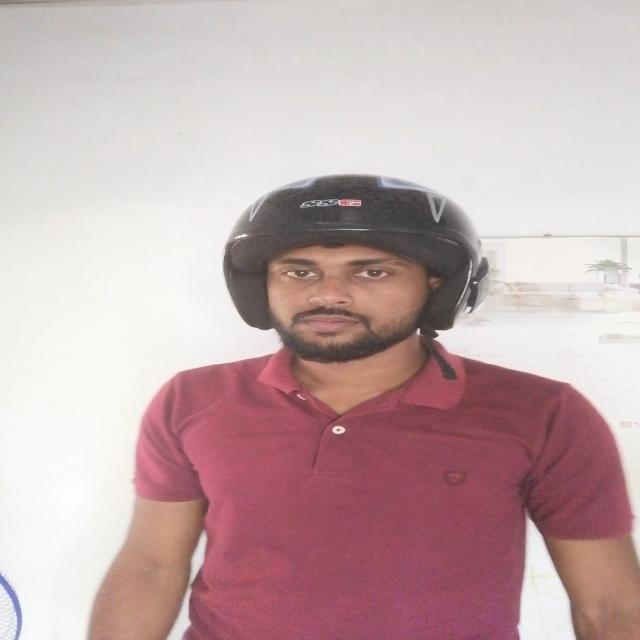Helmet_Wearer: (194, 168, 493, 386)
